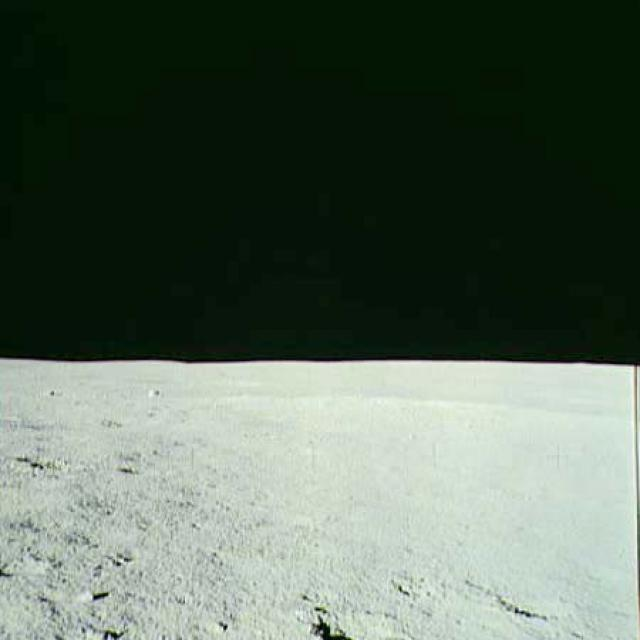crater: (459, 559, 582, 623), (294, 598, 416, 638)
